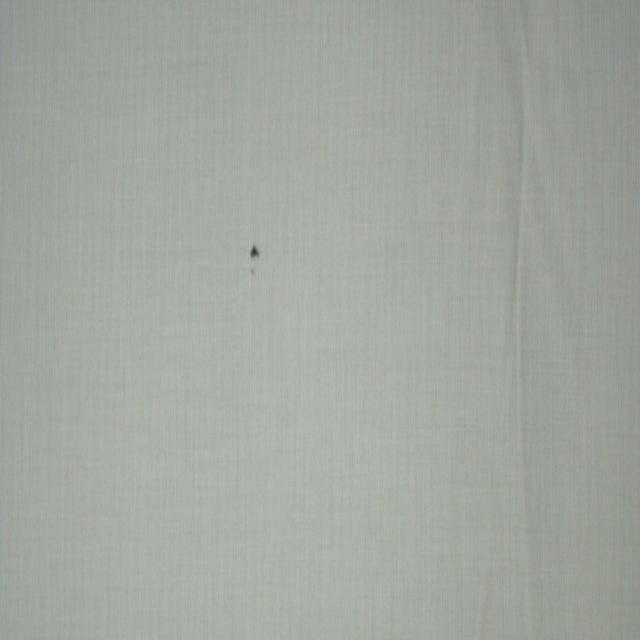dirty: (250, 247, 260, 258), (251, 268, 254, 276)
